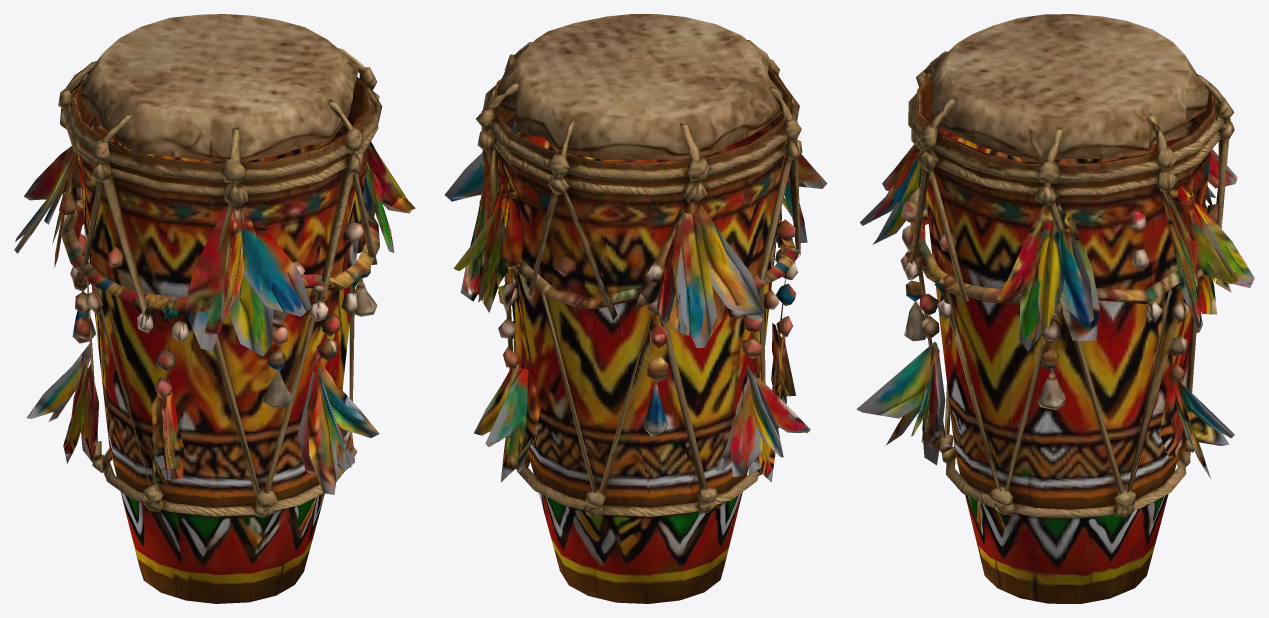
File: ati-drum.glb
3 renders of one model, left to right at view 1: azimuth 30°, elevation 25°; view 2: azimuth 150°, elevation 25°; view 3: azimuth 270°, elevation 25°, orthographic.
Visible parts, largest first — view 1: geometry_0; view 2: geometry_0; view 3: geometry_0.
Part boxes in pixels (<box>): geometry_0: <box>14,14,415,603</box>; geometry_0: <box>444,14,827,603</box>; geometry_0: <box>856,14,1254,603</box>.
Bounding box in the file's own units: 0.7301 × 1 × 0.7174.
Materials: 1 (1 with a texture image).
